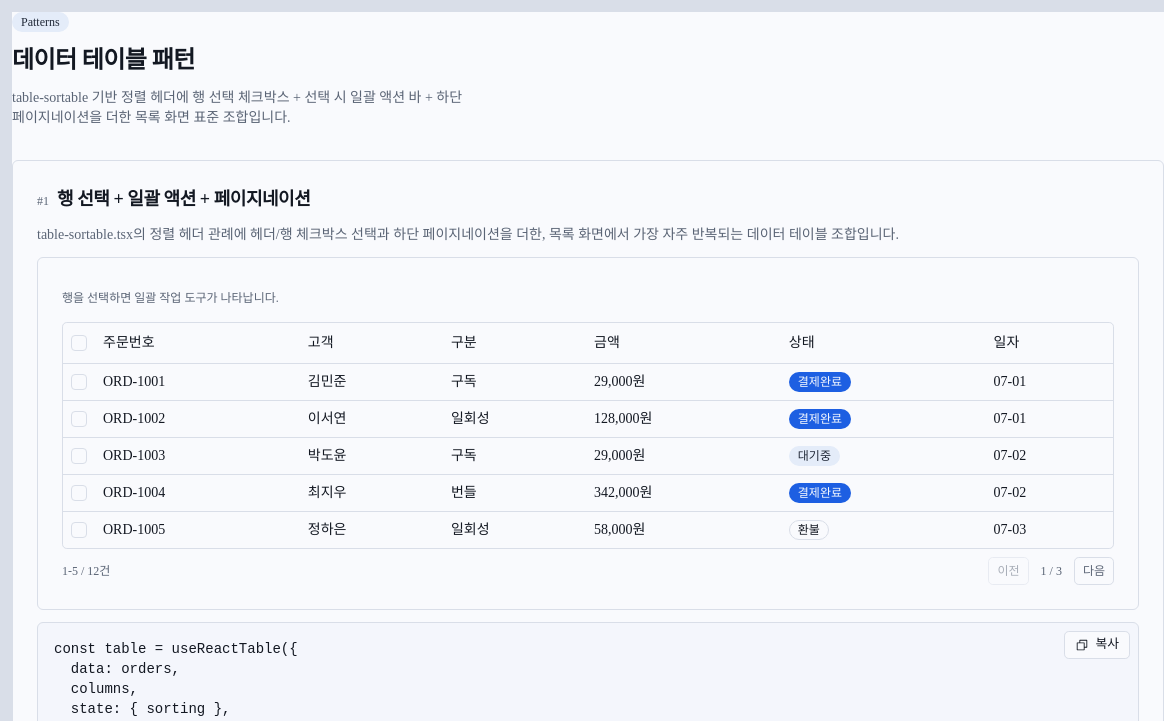
Test: DataTablePatternsPage › selects every row on the current page via the header checkbox
The image size is (1164, 721).
Click the checkbox named "현재 페이지 전체 선택".
click(79, 343)  # box [71, 335, 87, 351]
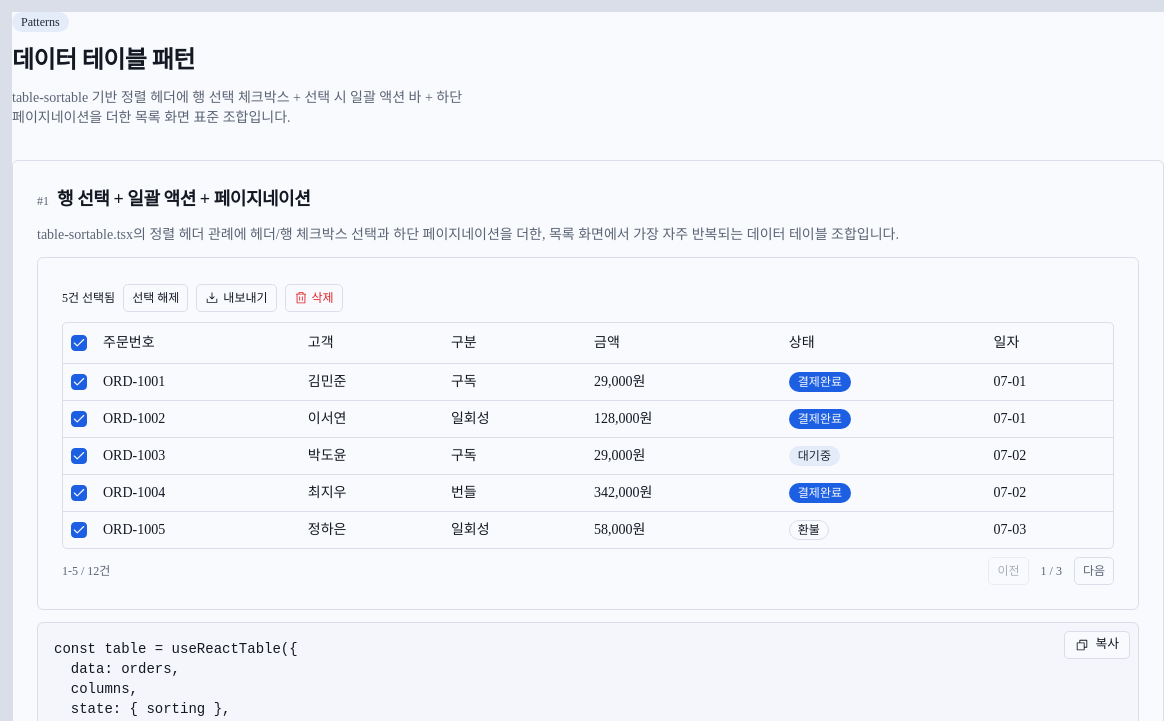
Expected: the text "5건 선택됨" is shown, [62, 290, 115, 306]
